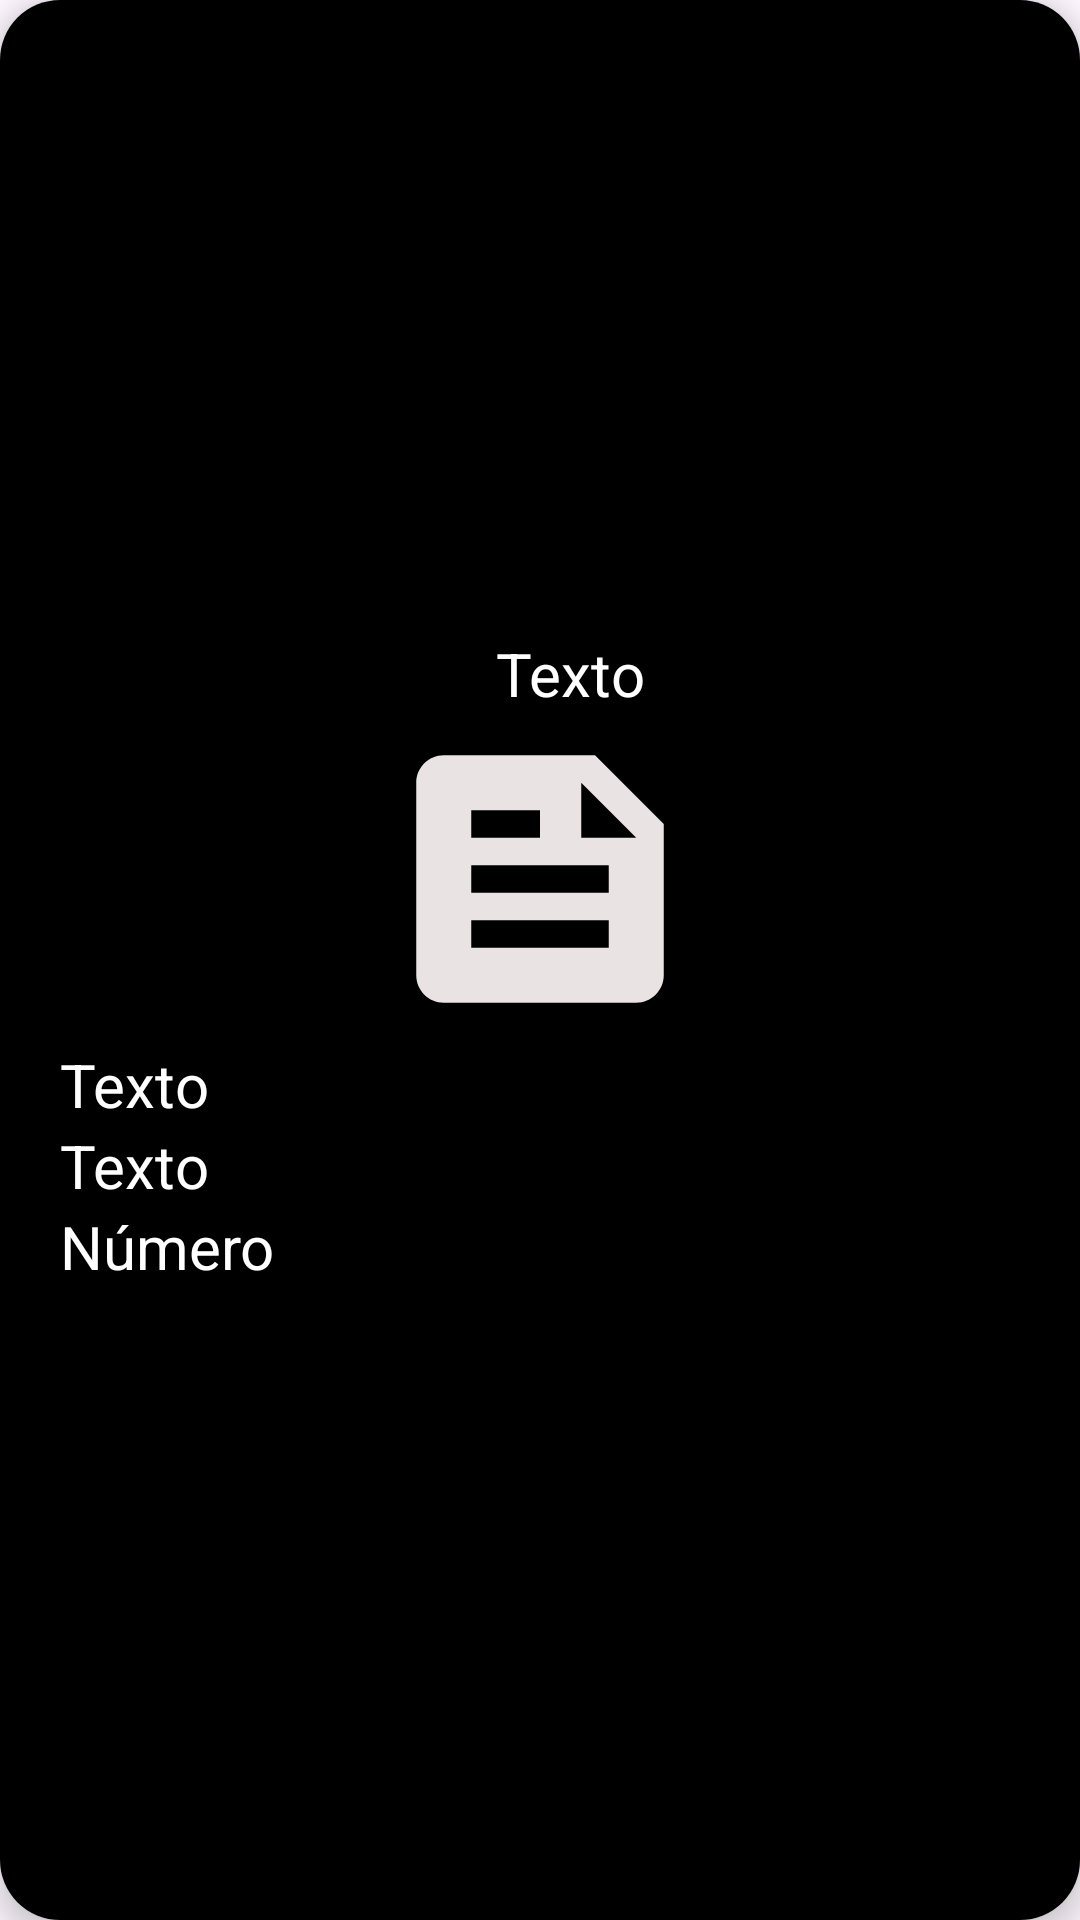

Screen size 1080×1920. Icon name, then its box in pixels as (x1, y1, x2, y2):
icoon feed: (416, 755, 664, 1003)
